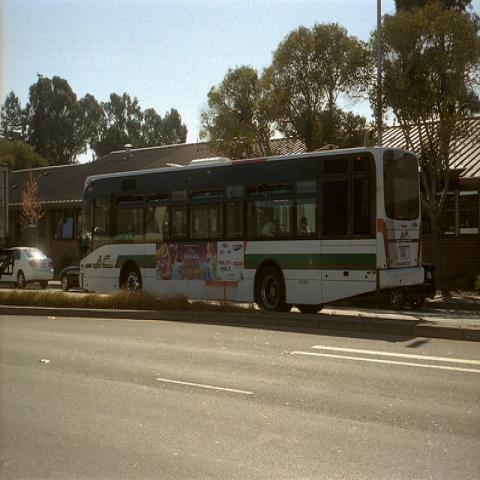bus: (81, 154, 429, 319)
car: (331, 258, 437, 310), (1, 247, 53, 289), (60, 256, 80, 292)
